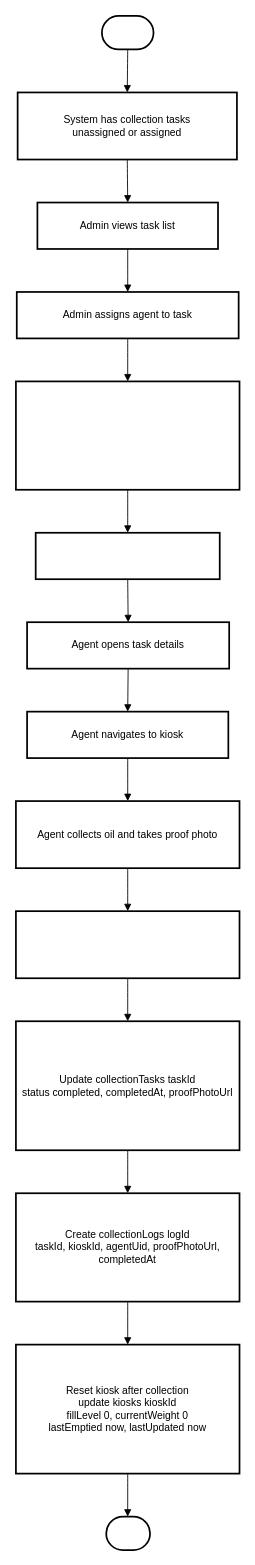
The diagram is 255 pixels wide and 1565 high, and some of its shapes have lost their labels. The centre of each missing label's shape, as x and y in pixels:
"End" belongs at (127,1533).
"Notify assigned agent" belongs at (127,555).
"Start" belongs at (127,32).
"Update collectionTasks taskId status assigned, agentUid, assignedAt" belongs at (127,435).
"Upload proof photo to Storage" belongs at (127,944).
